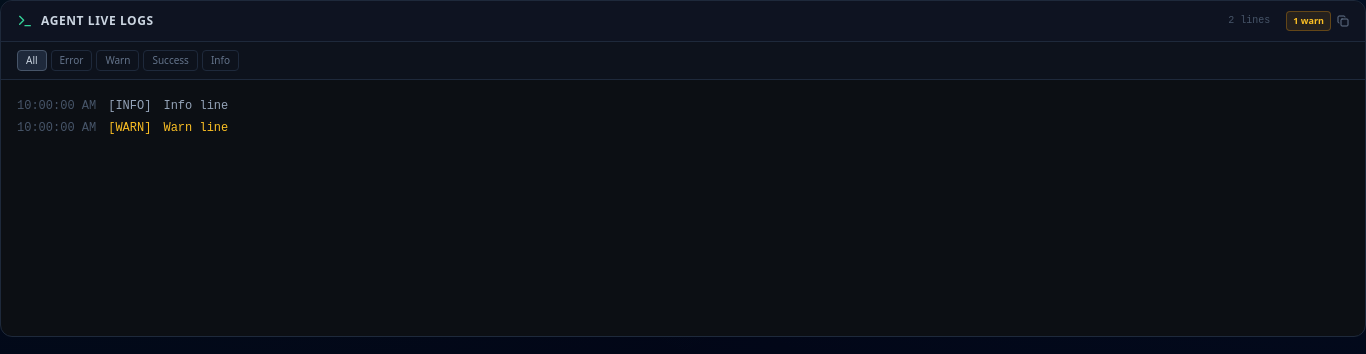
Test: AgentLogsPanel — additional coverage › filters to warn logs when warn pill clicked
The image size is (1366, 354).
Click the button "warn" at (118, 60), box [96, 50, 139, 70]
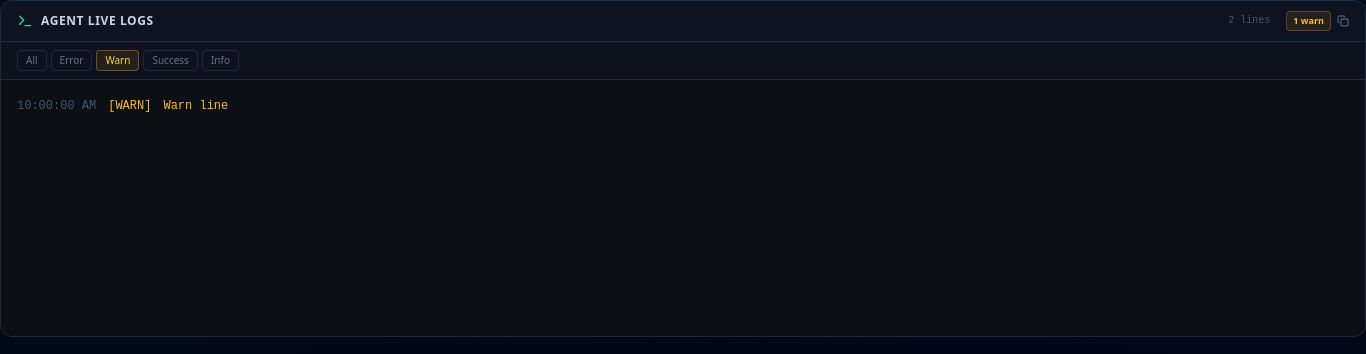
Check: the text "Warn line" is shown, box [163, 96, 228, 116]
Check: the text "Info line" is gone
